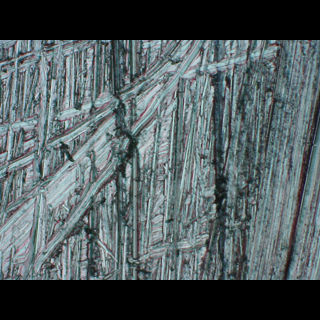d: (0, 40, 211, 268)
